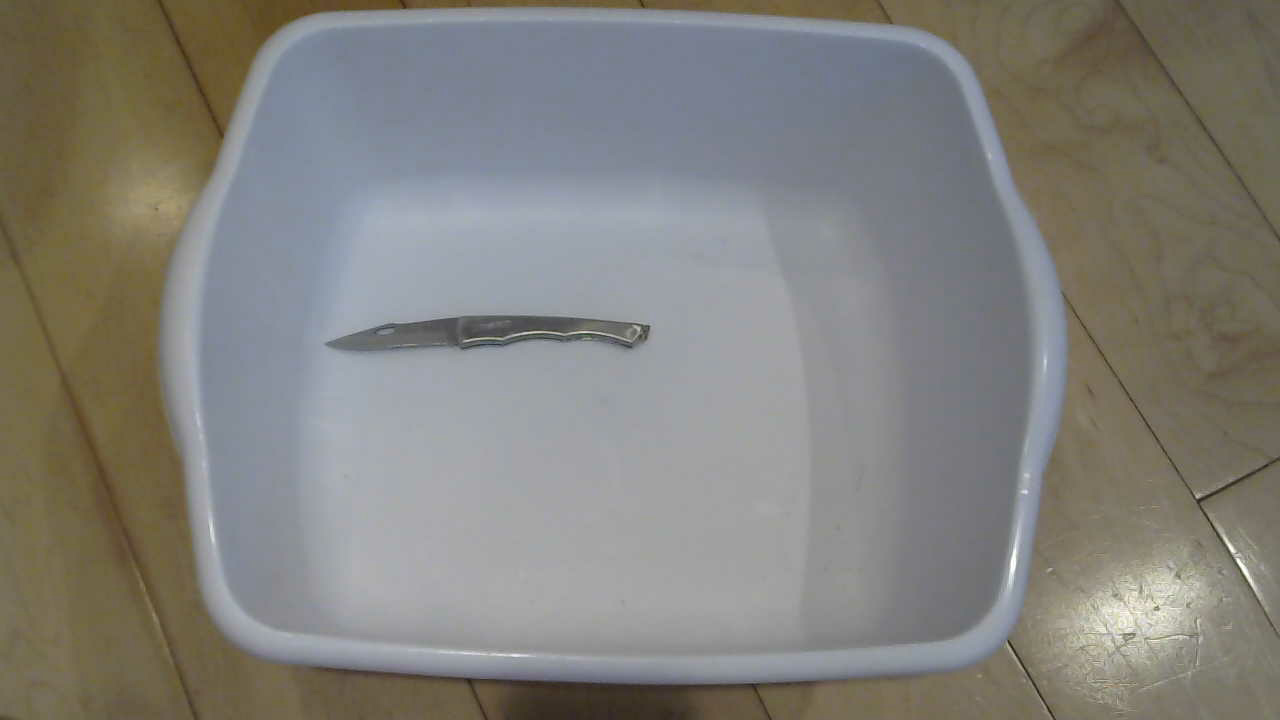knife: (296, 278, 671, 383)
